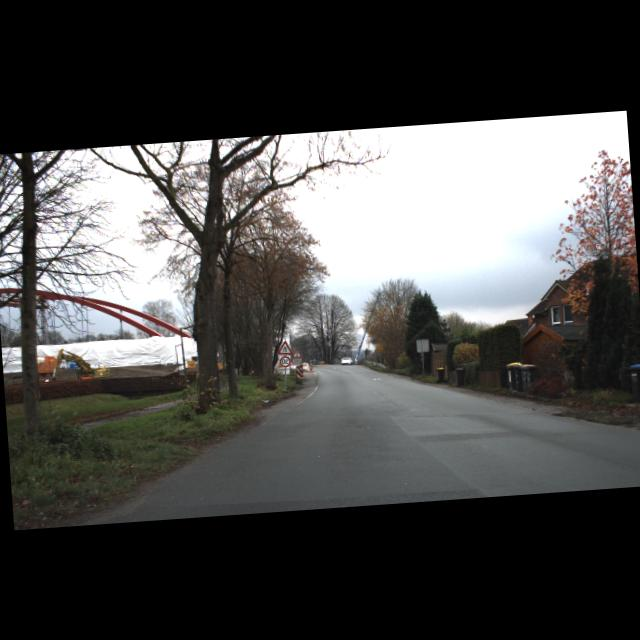danger: (276, 338, 294, 354), (291, 348, 302, 358)
prohibitory: (279, 356, 291, 368)
